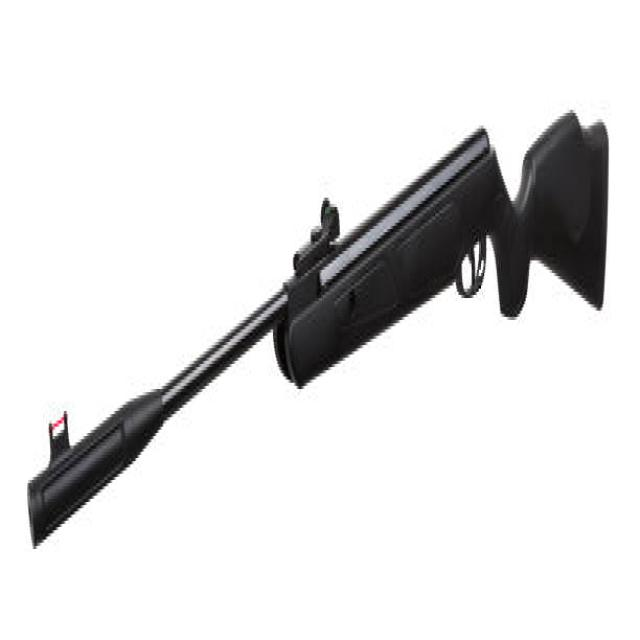rifle: (21, 94, 618, 563)
